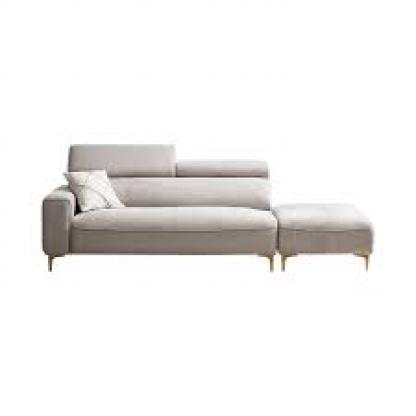sofa: (37, 148, 373, 281)
